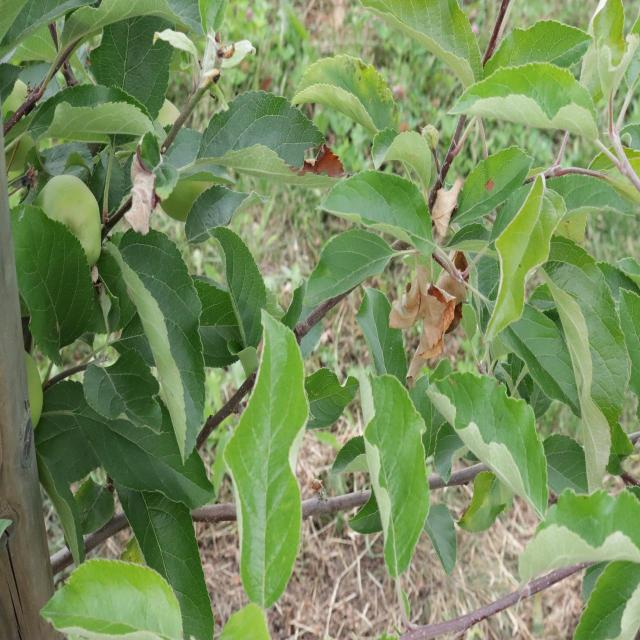-FireBlight-: (398, 242, 474, 388)
